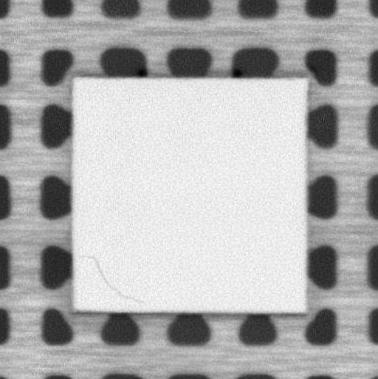DIE_CRACK: (81, 254, 144, 307)
